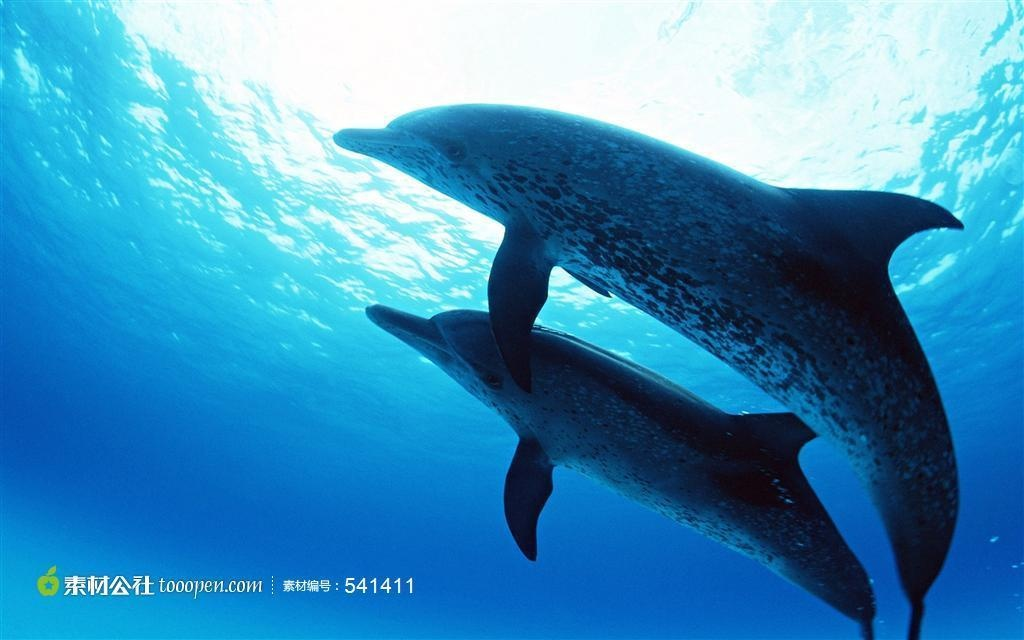fish: (329, 100, 966, 640), (360, 301, 883, 633)
